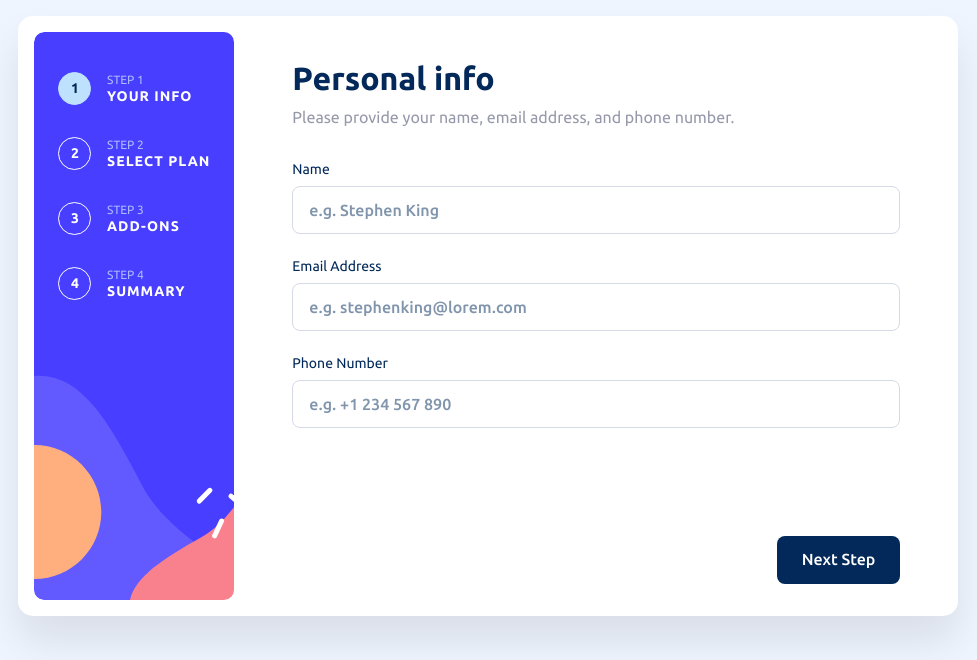
it: multi-step form navigation › keeps the user on personal info until required fields are valid
Click the button "Next Step" at x=838, y=560, box [777,536,900,584]
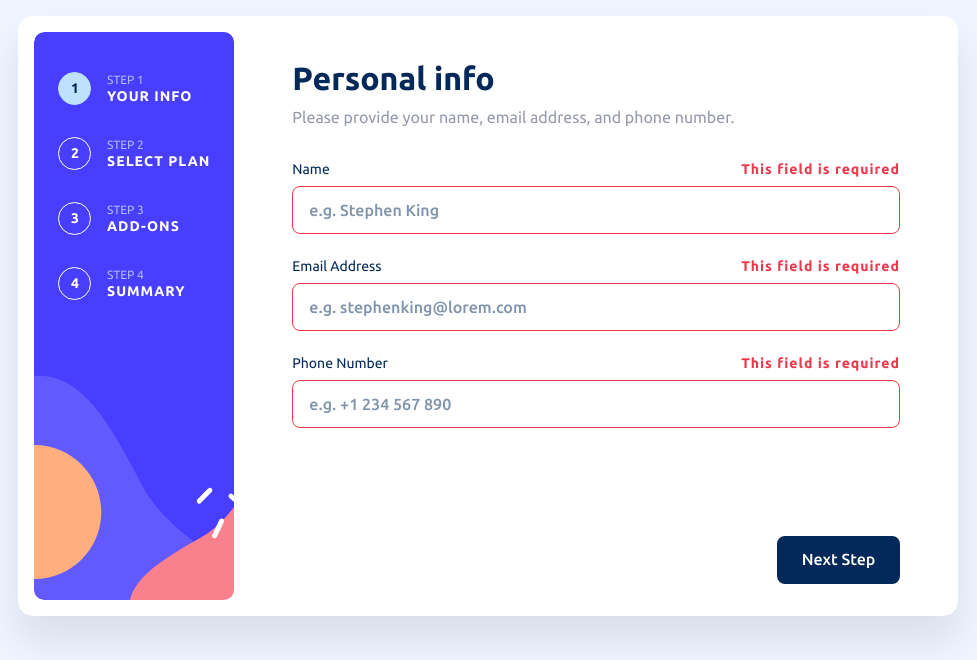
Now the text "This field is required" is shown 3 times, box [741,161,900,178]; [741,258,900,275]; [741,355,900,372]
